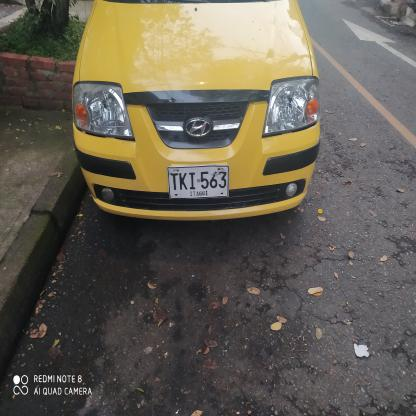placa: (164, 163, 231, 201)
